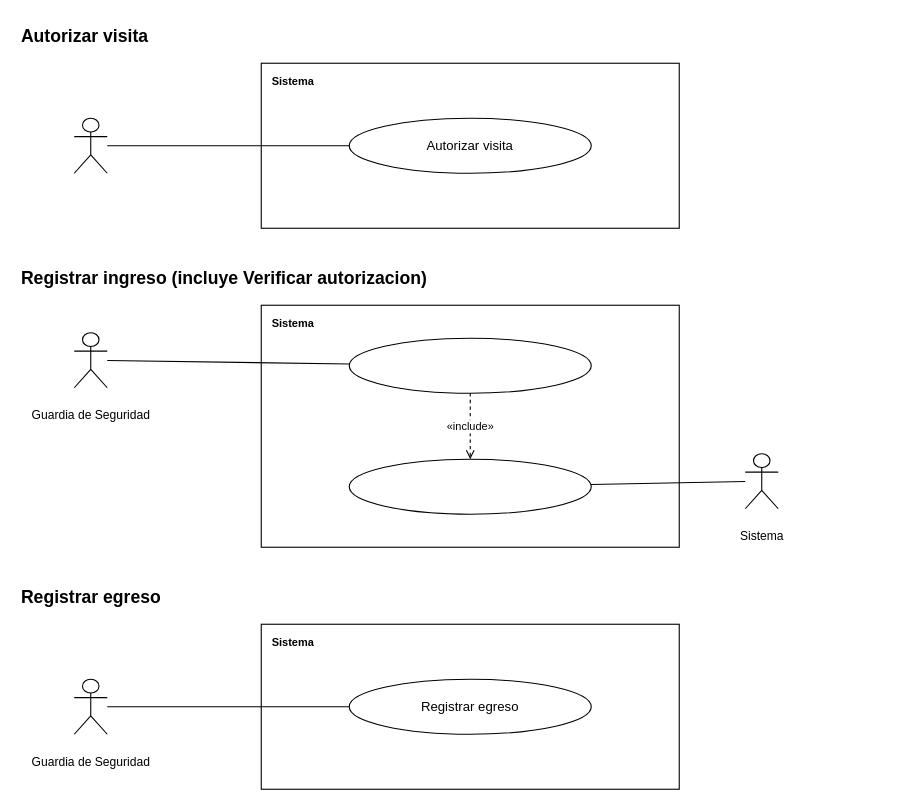
This 917x809 diagram has some shape labels left out. The shapes that lost their labels are listed below. From the top down, each one's box as (x1, y1, x2, y2) in pixels, then its label:
(73, 117, 107, 173): Vecino
(348, 337, 591, 393): Registrar ingreso
(348, 458, 591, 514): Verificar autorizacion
